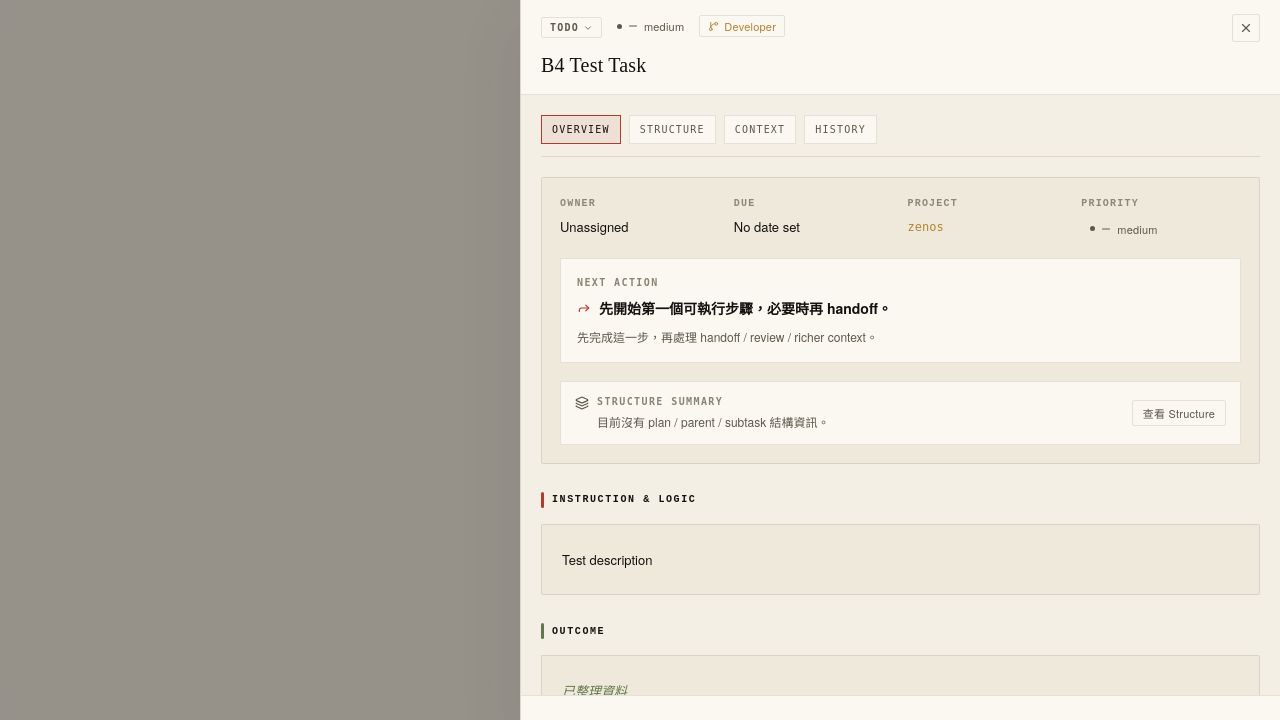
it: TaskDetailDrawer — B4 Zen migration › blocks direct done outside review with the same governance warning
This screenshot has width=1280, height=720.
Click the button "todo" at point(571, 28), box [541,17,602,38]
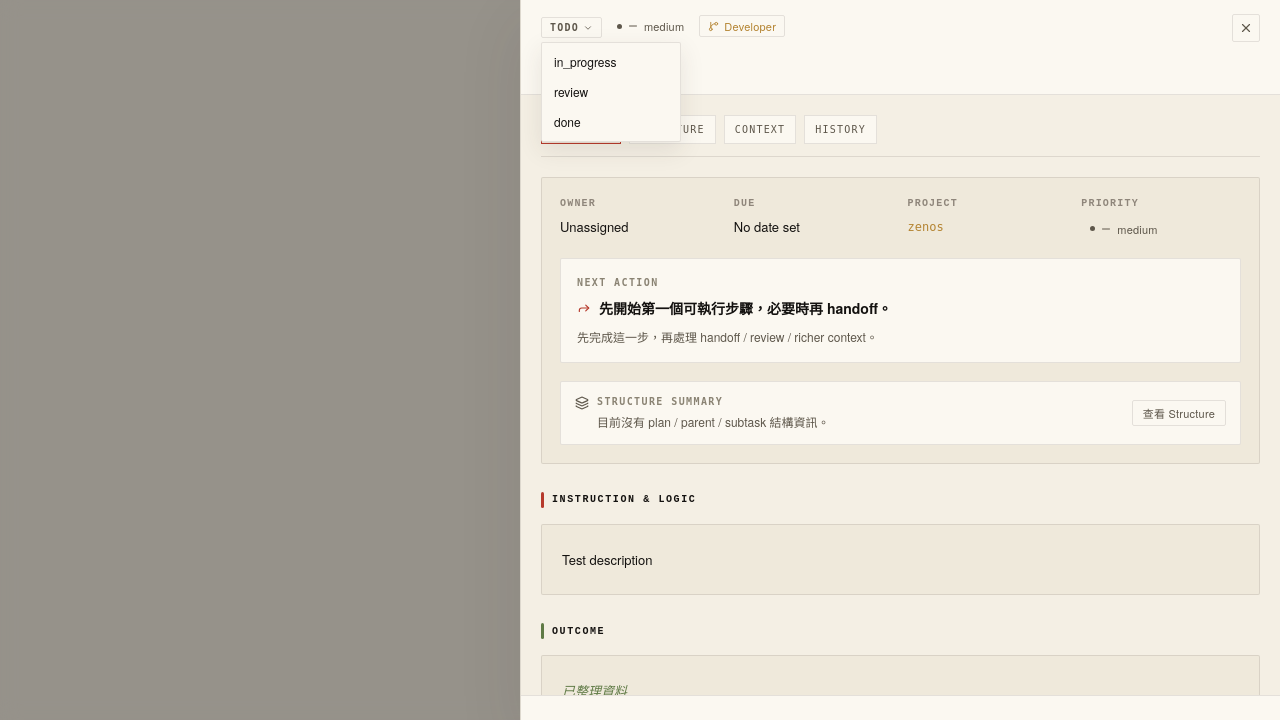
Click the button "done" at point(611, 122), box [542,107,680,137]
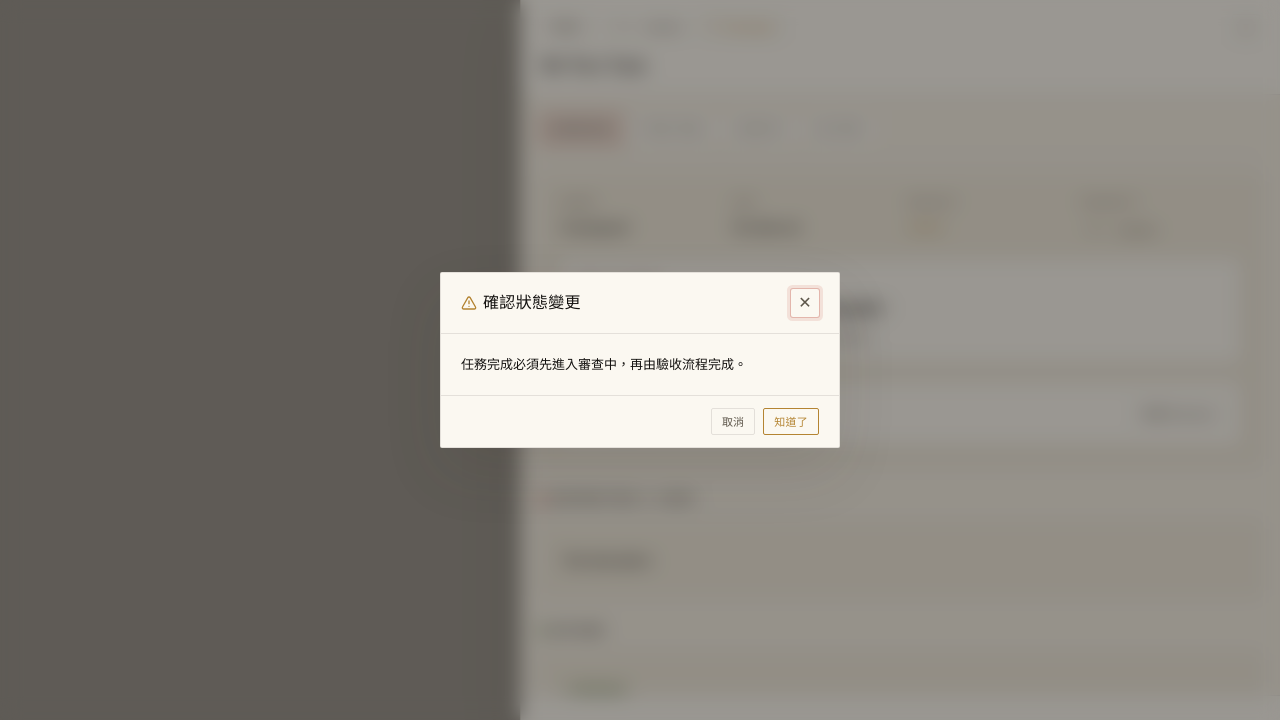
Check: the text "任務完成必須先進入審查中，再由驗收流程完成。" is shown, box [461,354,747,373]
Check: the button "知道了" is shown, box [763,408,819,435]
